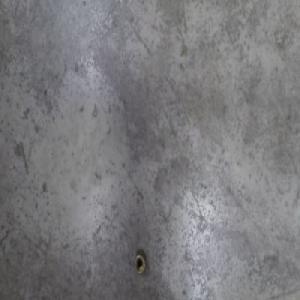Nut: (133, 251, 147, 276)
